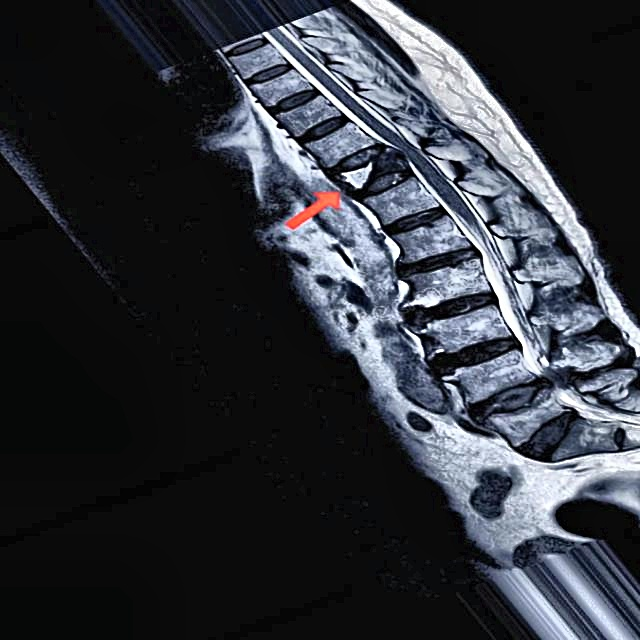Comminuted: (322, 128, 425, 206)
